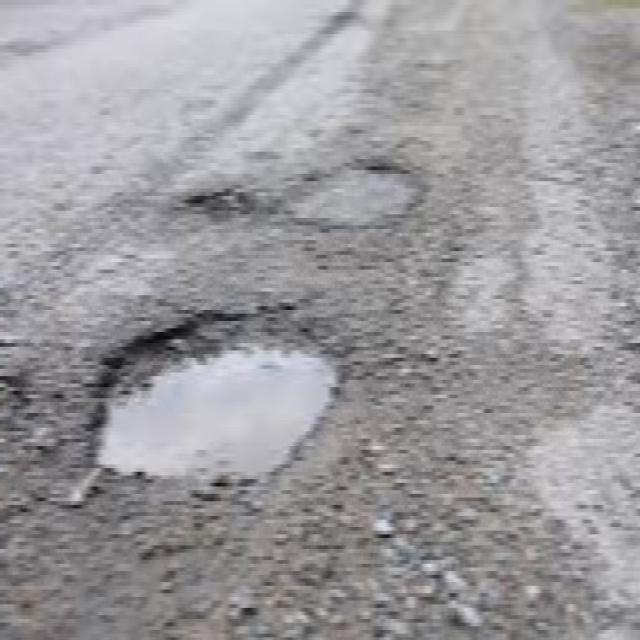Pothole: (50, 306, 355, 516), (274, 158, 436, 235), (178, 175, 255, 223)
